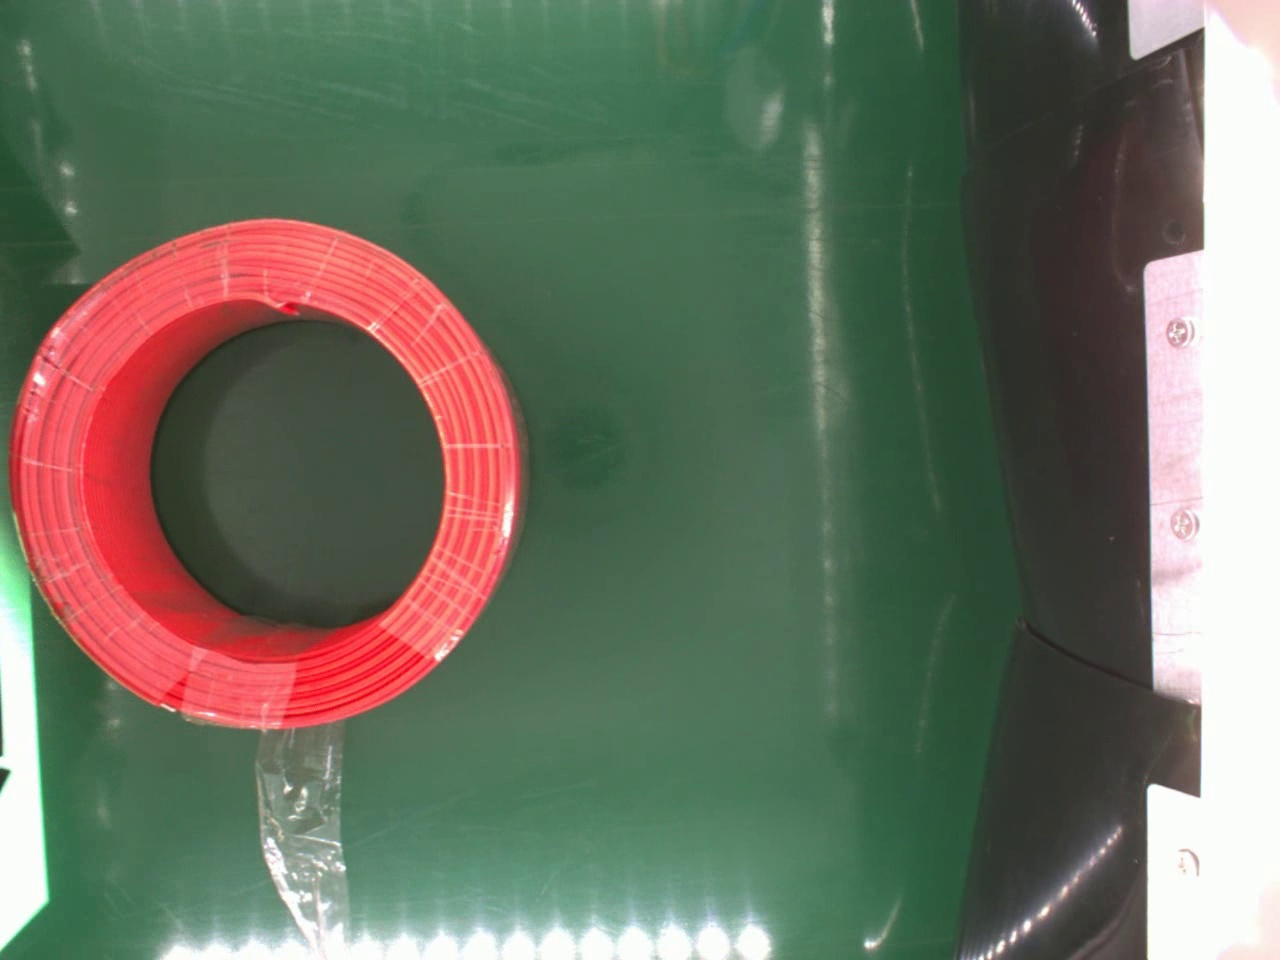red: (9, 212, 527, 730)
